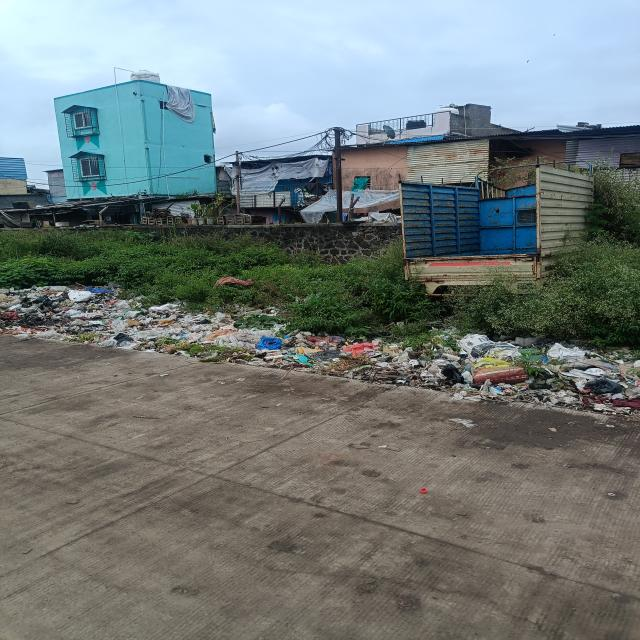garbage: (202, 314, 638, 412), (3, 285, 229, 354)
